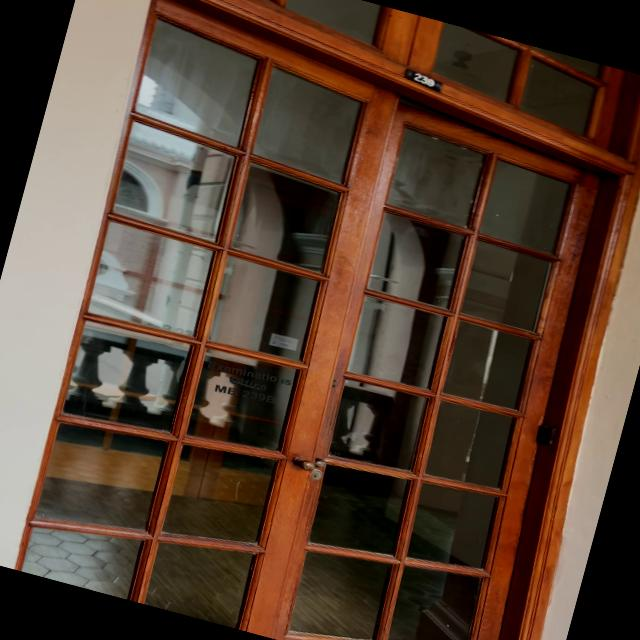room239: (402, 67, 446, 93)
